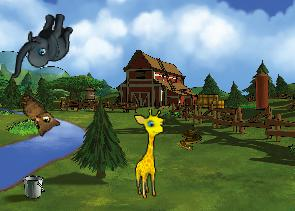elephant: (10, 8, 74, 84)
giraffe: (133, 108, 167, 199)
owl: (9, 92, 63, 141)
